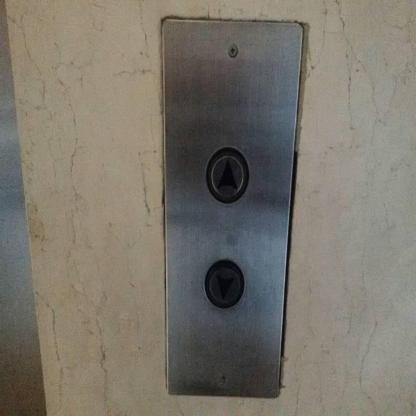down: (204, 260, 245, 308)
up: (205, 146, 250, 205)
